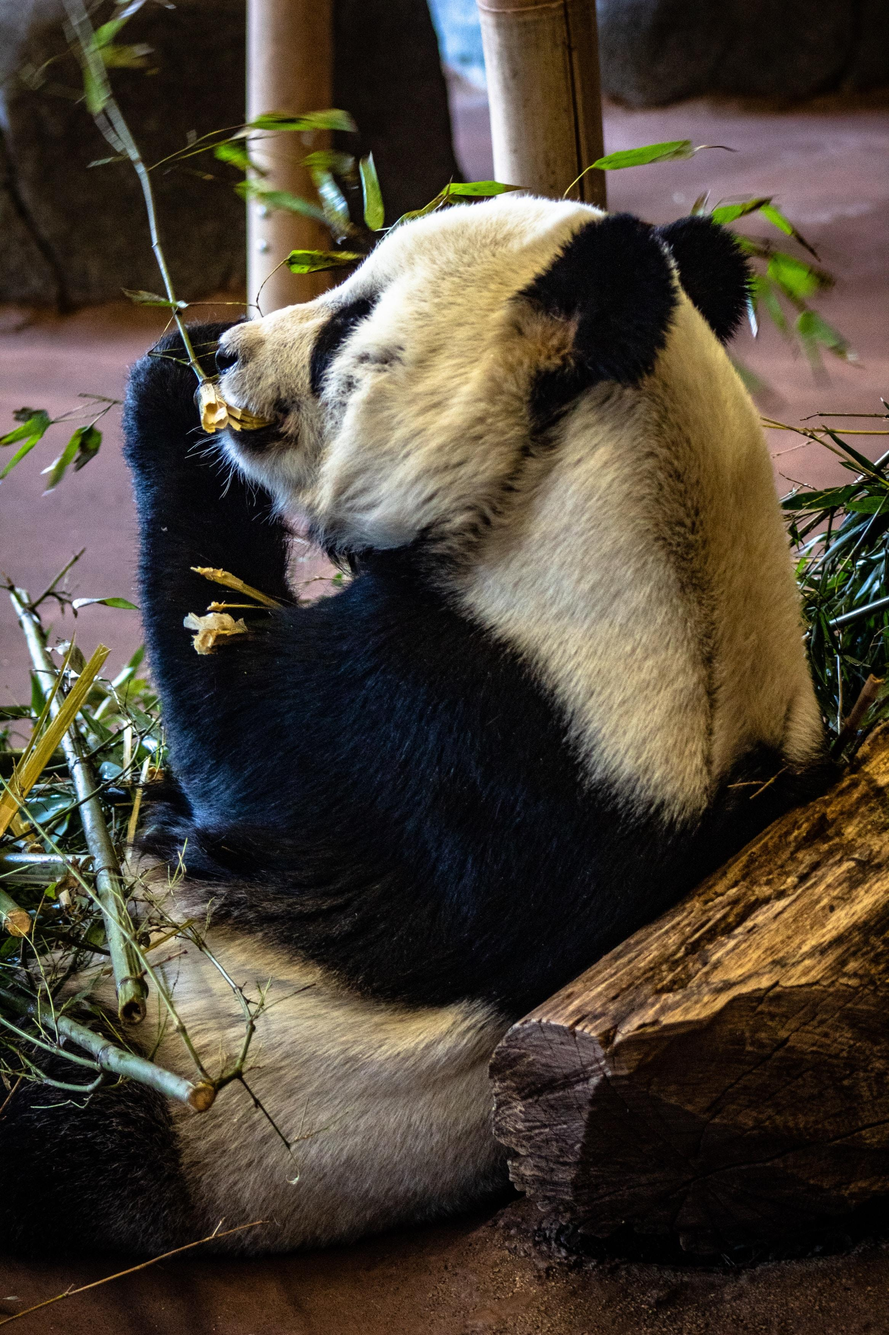panda: (0, 188, 828, 1255)
